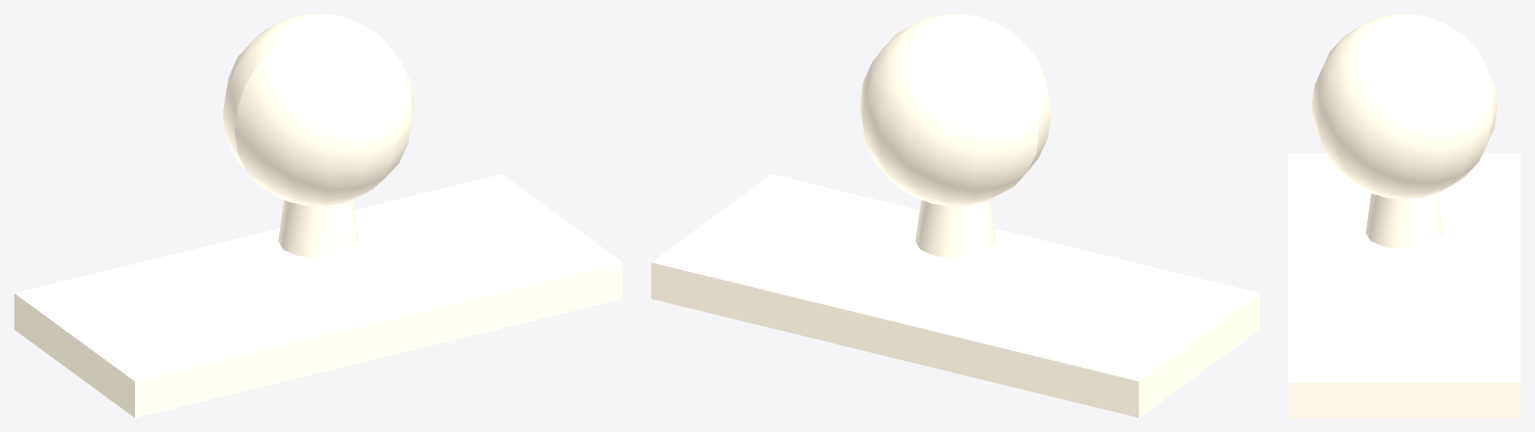
3 views of the same model, side by side, from view 1: azimuth 30°, elevation 25°; view 2: azimuth 150°, elevation 25°; view 3: azimuth 270°, elevation 25° (orthographic). The views are drawn at different scales.
Size of the model in its own units: 0.7 by 0.4 by 0.3.
